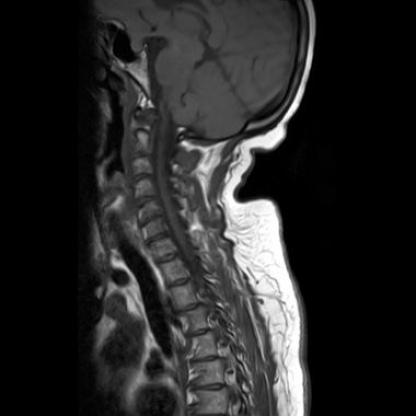Disc Bulgerotation: (145, 229, 173, 244), (138, 214, 167, 225)
Osteophytesrotation: (145, 230, 173, 243), (138, 214, 167, 225)
